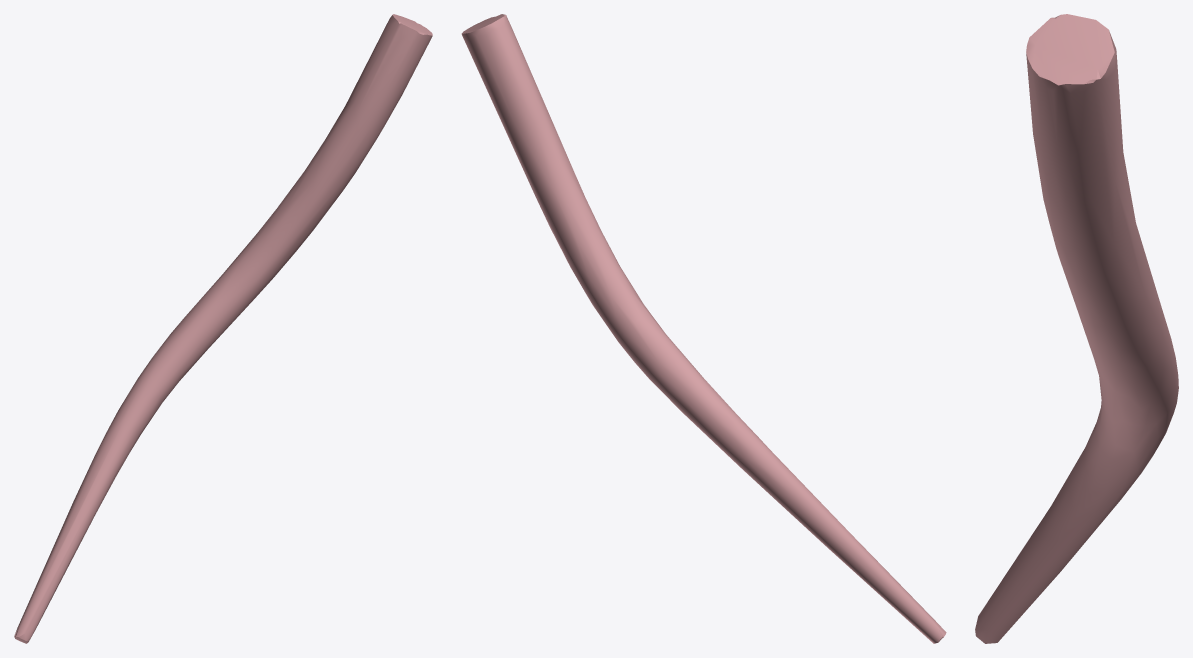
File: fma68220_fj2455.glb
3 views of the same model, side by side, from view 1: azimuth 30°, elevation 25°; view 2: azimuth 150°, elevation 25°; view 3: azimuth 270°, elevation 25° (orthographic). The views are drawn at different scales.
Visible parts, largest first — view 1: FMA68220_FJ2455; view 2: FMA68220_FJ2455; view 3: FMA68220_FJ2455.
Boxes of the visible parts, bbox=[...] form: FMA68220_FJ2455: bbox=[14, 14, 432, 643]; FMA68220_FJ2455: bbox=[461, 14, 946, 643]; FMA68220_FJ2455: bbox=[975, 14, 1178, 643].
Size of the model in its own units: 0.0753 by 0.085 by 0.0157.
